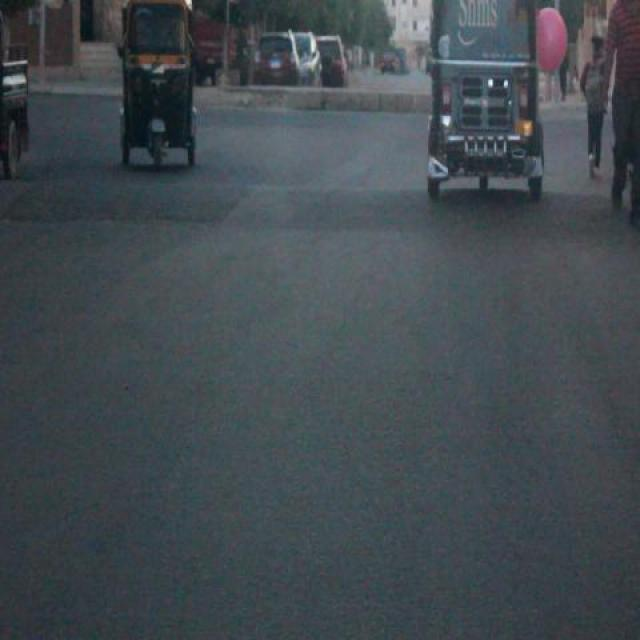Unmarked Bump: (0, 174, 639, 248)
